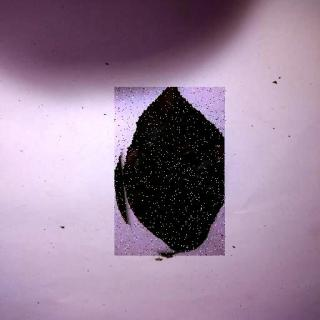Anthracnose: (116, 88, 227, 258)
